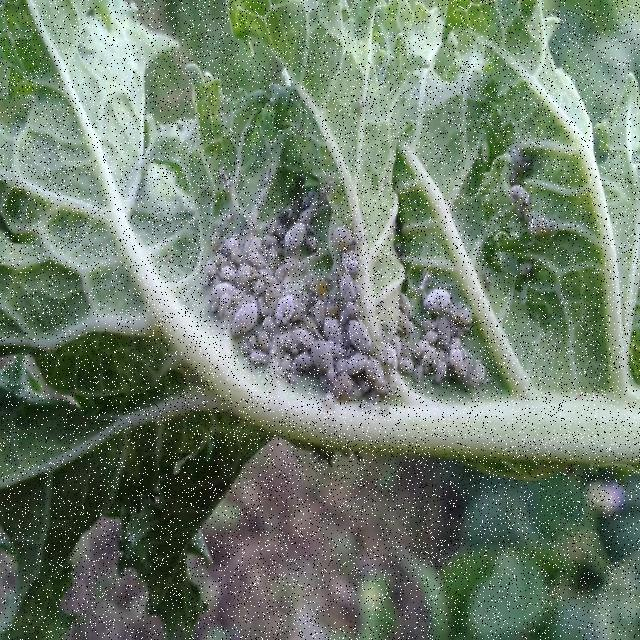Aphids: (417, 334, 489, 394), (224, 292, 264, 354), (337, 269, 368, 347), (323, 213, 370, 255), (280, 202, 318, 253), (416, 274, 454, 317), (307, 334, 338, 376), (273, 288, 302, 326), (328, 373, 358, 408)
